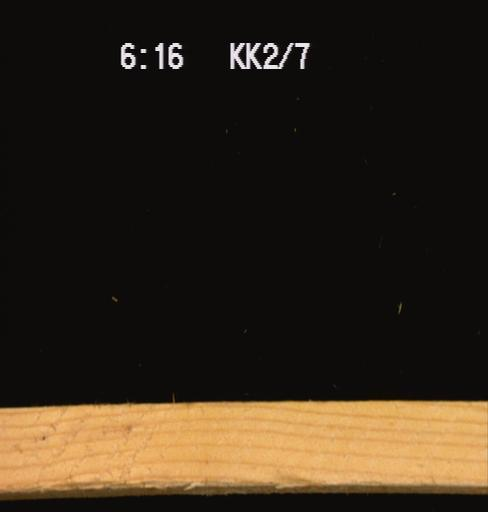wave: (47, 464, 310, 492)
